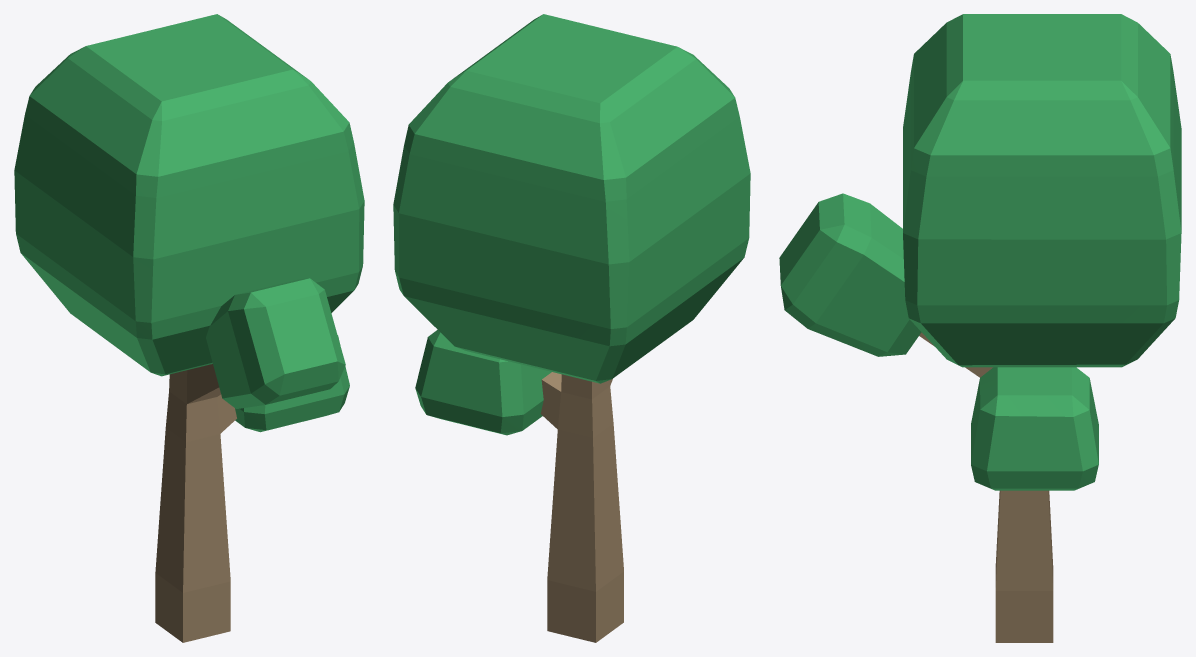
The model's file is tree1.fbx.
The picture shows the model from 3 angles, left to right: view 1: azimuth 30°, elevation 25°; view 2: azimuth 150°, elevation 25°; view 3: azimuth 270°, elevation 25°; orthographic projection. The views are drawn at different scales.
Parts seen in each view (by area): view 1: tree; view 2: tree; view 3: tree.
Boxes of the visible parts, x1,y1,x2,y2 form: tree: (14,14,364,642); tree: (393,14,750,642); tree: (779,14,1181,642).
Bounding box in the file's own units: 2.81 × 6.04 × 3.76.
